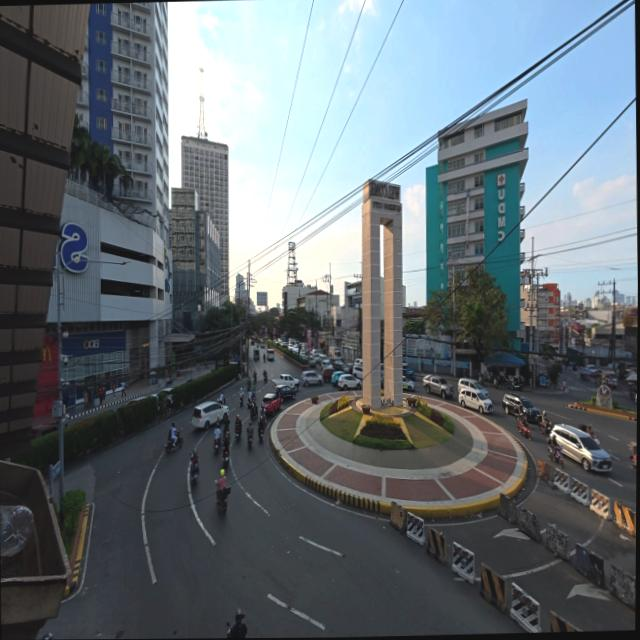car: (457, 381, 493, 416), (332, 371, 361, 390), (301, 370, 323, 386)
